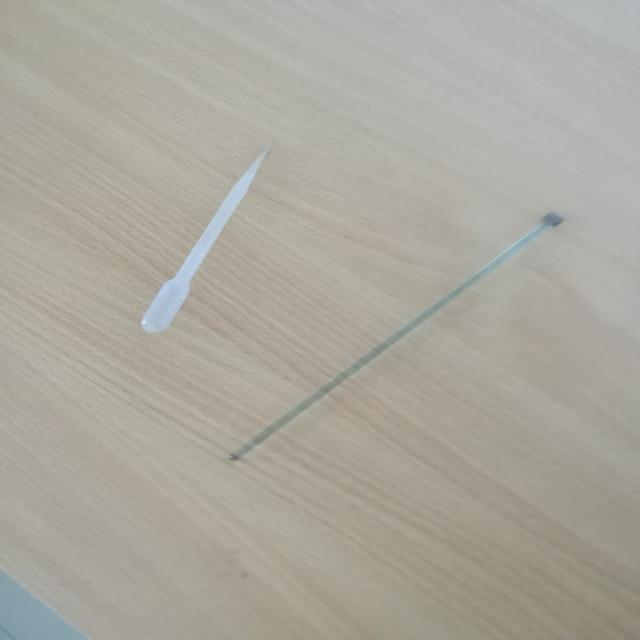Glass_Rod: (210, 191, 592, 488)
Pipette: (97, 105, 289, 340)
